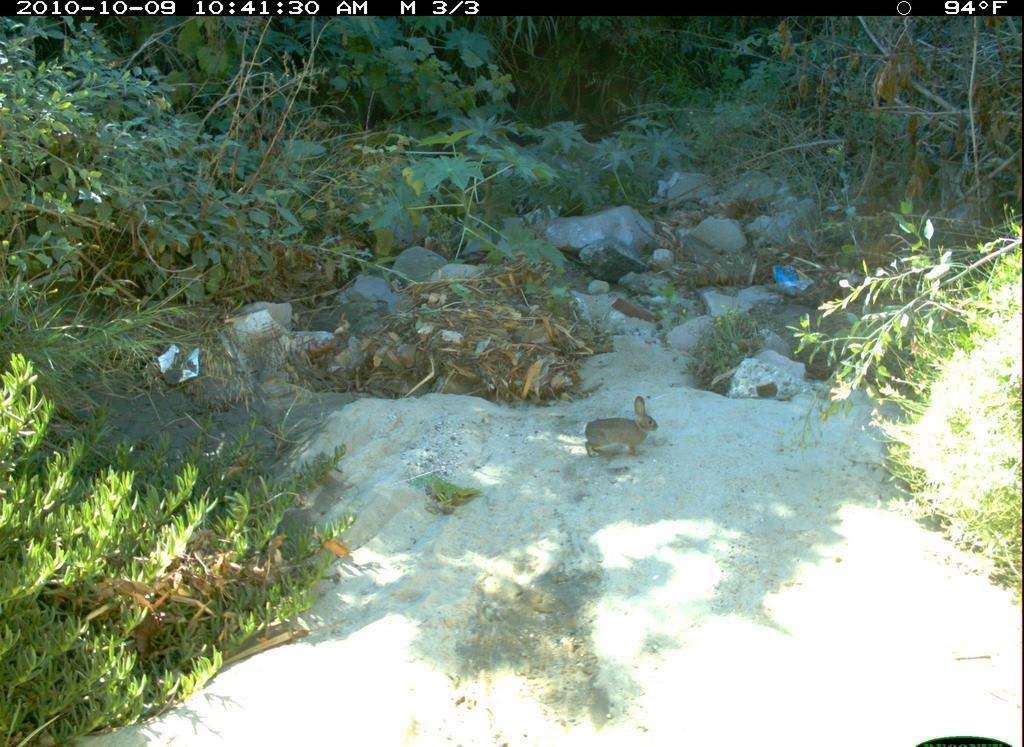rabbit: (565, 389, 677, 470)
